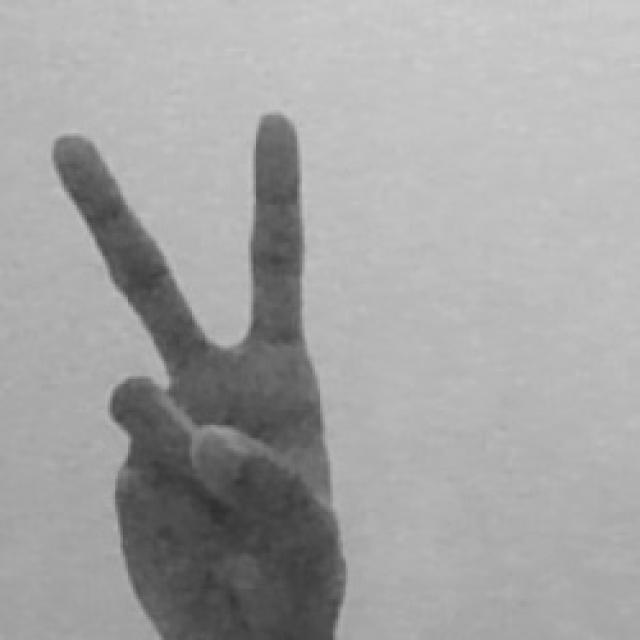V: (46, 106, 350, 640)
